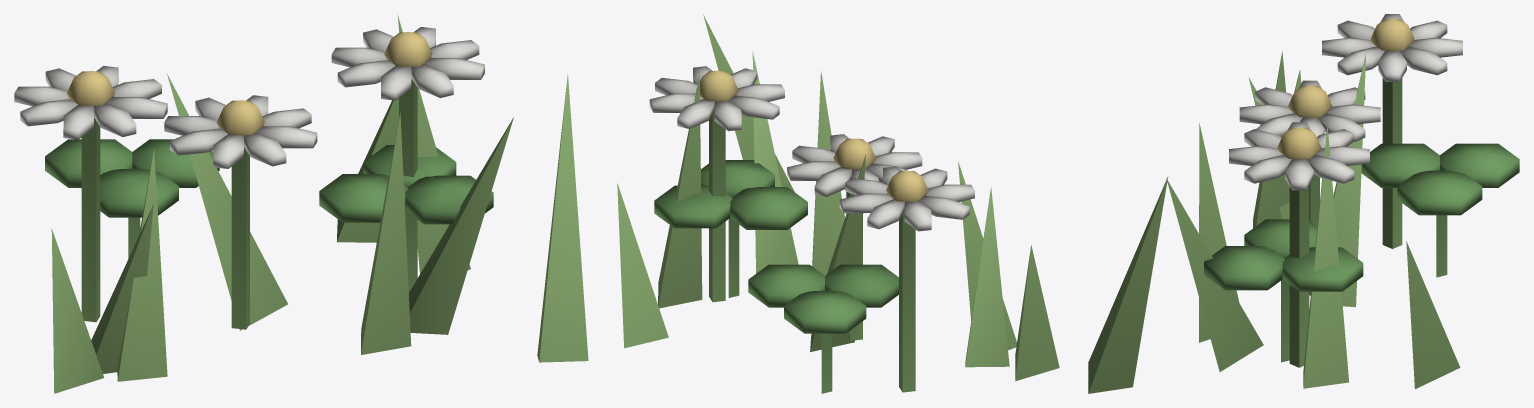
The model's file is prop_flowers.glb.
3 renders of one model, left to right at view 1: azimuth 30°, elevation 25°; view 2: azimuth 150°, elevation 25°; view 3: azimuth 270°, elevation 25°, orthographic. The views are drawn at different scales.
Parts seen in each view (by area): view 1: prop_flowers; view 2: prop_flowers; view 3: prop_flowers.
Part boxes in pixels (x1=…): prop_flowers: x1=14, y1=15, x2=588, y2=393; prop_flowers: x1=617, y1=14, x2=1059, y2=393; prop_flowers: x1=1088, y1=14, x2=1519, y2=393.
Size of the model in its own units: 0.3948 by 0.2266 by 0.3516.
